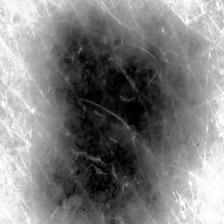Benign Marking or Mole: (38, 12, 208, 224)
